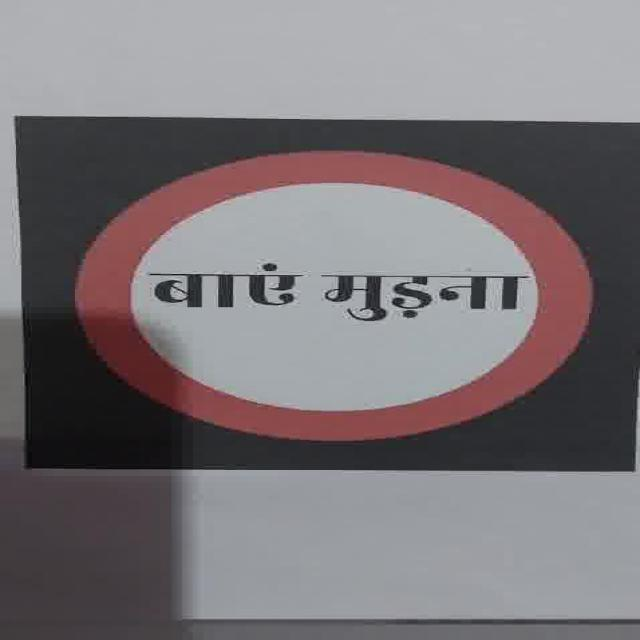hindileft: (72, 148, 596, 442), (146, 268, 531, 322), (130, 250, 308, 327)
